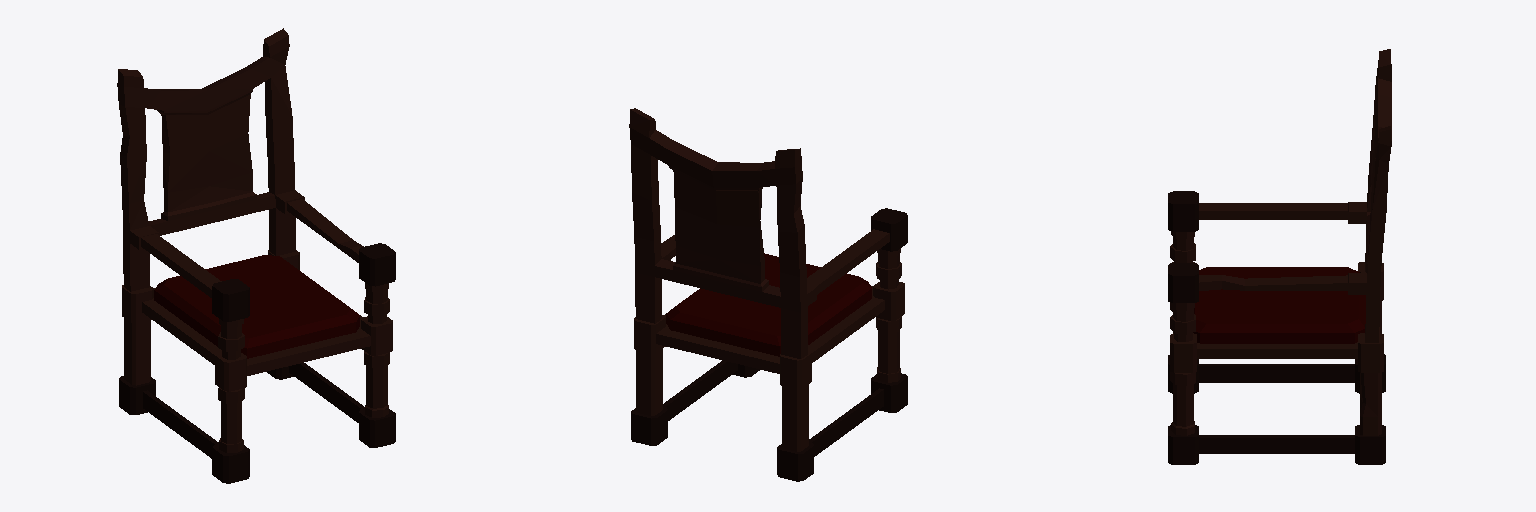
The model's file is Najee_Chair_Cube.obj.
3 views of the same model, side by side, from view 1: azimuth 30°, elevation 25°; view 2: azimuth 150°, elevation 25°; view 3: azimuth 270°, elevation 25° (orthographic).
Visible parts, largest first — view 1: Chair_Cube.027; view 2: Chair_Cube.027; view 3: Chair_Cube.027.
Part boxes in pixels (x1,y1,x2,y2): Chair_Cube.027: (117, 28, 395, 483); Chair_Cube.027: (629, 108, 907, 481); Chair_Cube.027: (1168, 49, 1391, 464).
Size of the model in its own units: 0.627 by 1.16 by 0.7024.